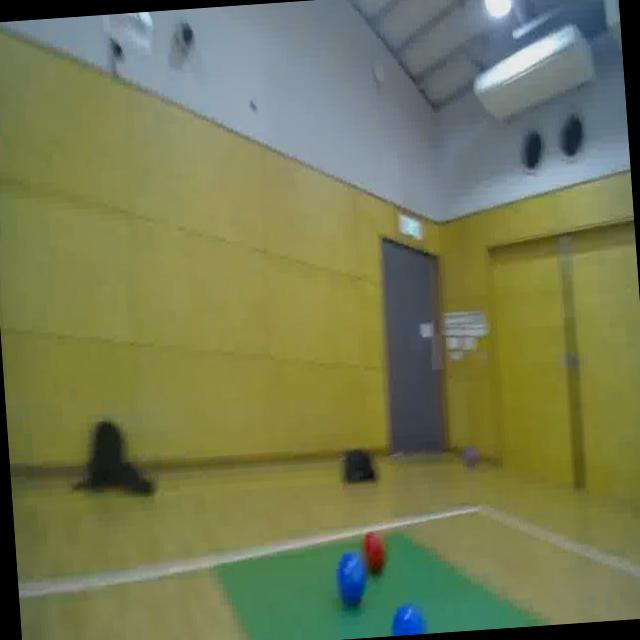blue_ball: (334, 549, 366, 607), (386, 603, 425, 636)
purple_ball: (462, 441, 478, 472)
red_ball: (359, 526, 388, 578)
